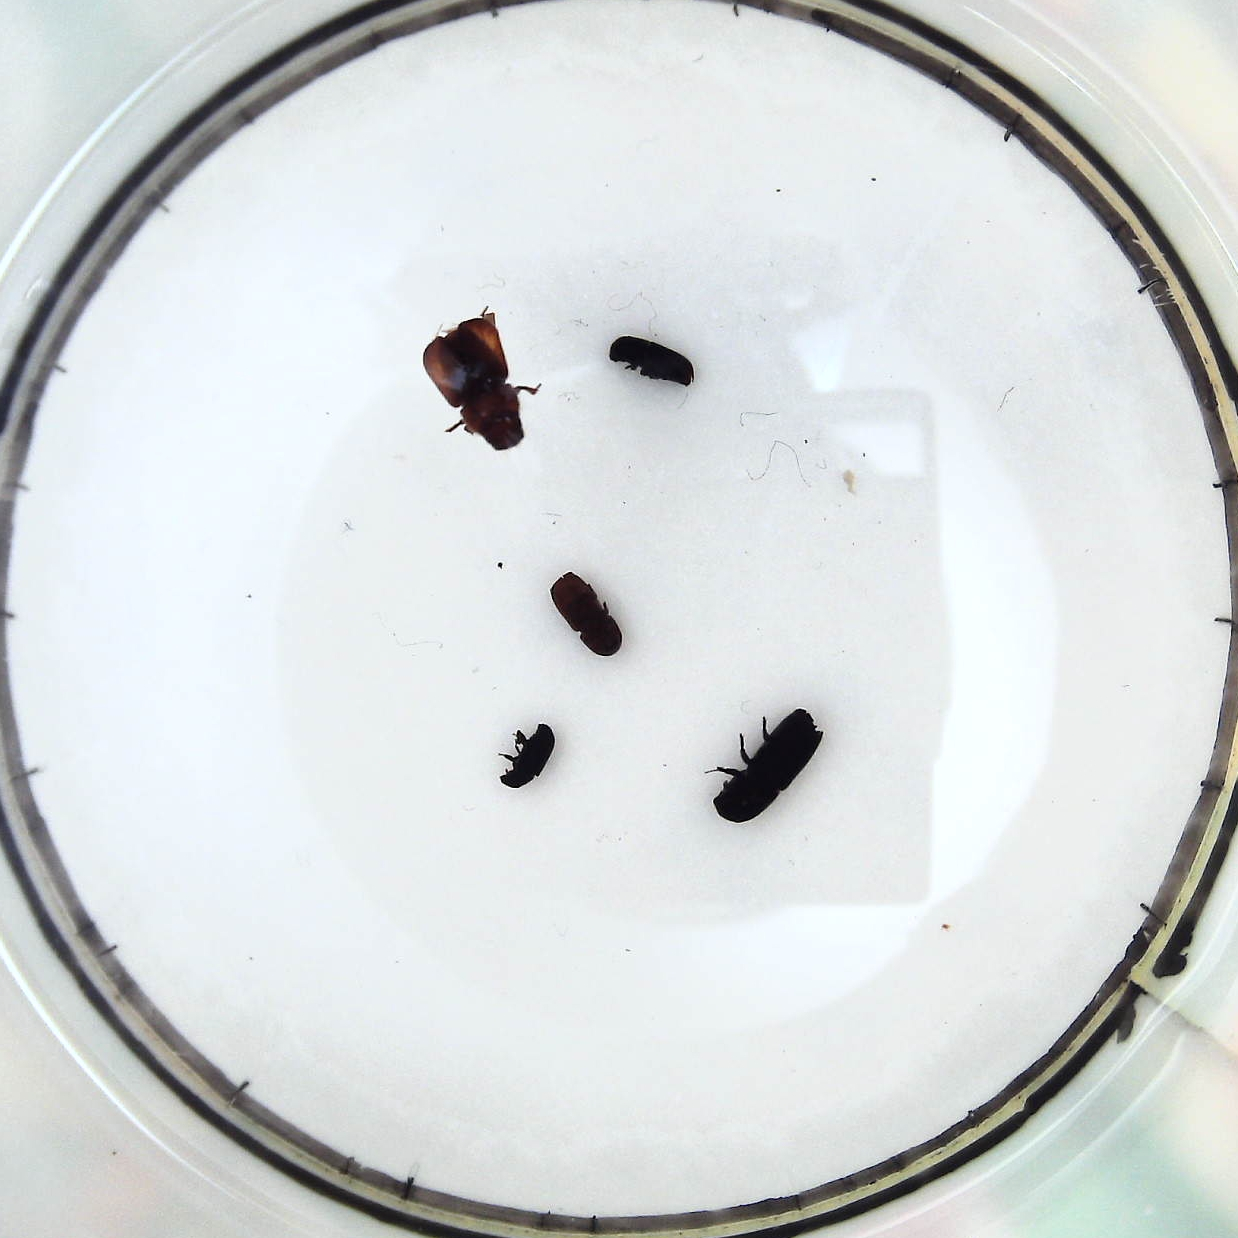Boerner: (707, 707, 823, 825)
Leconte: (421, 314, 527, 450)
Linnaeus: (548, 573, 624, 661)
armandi: (610, 334, 695, 389)
coleoptera: (499, 723, 556, 790)
